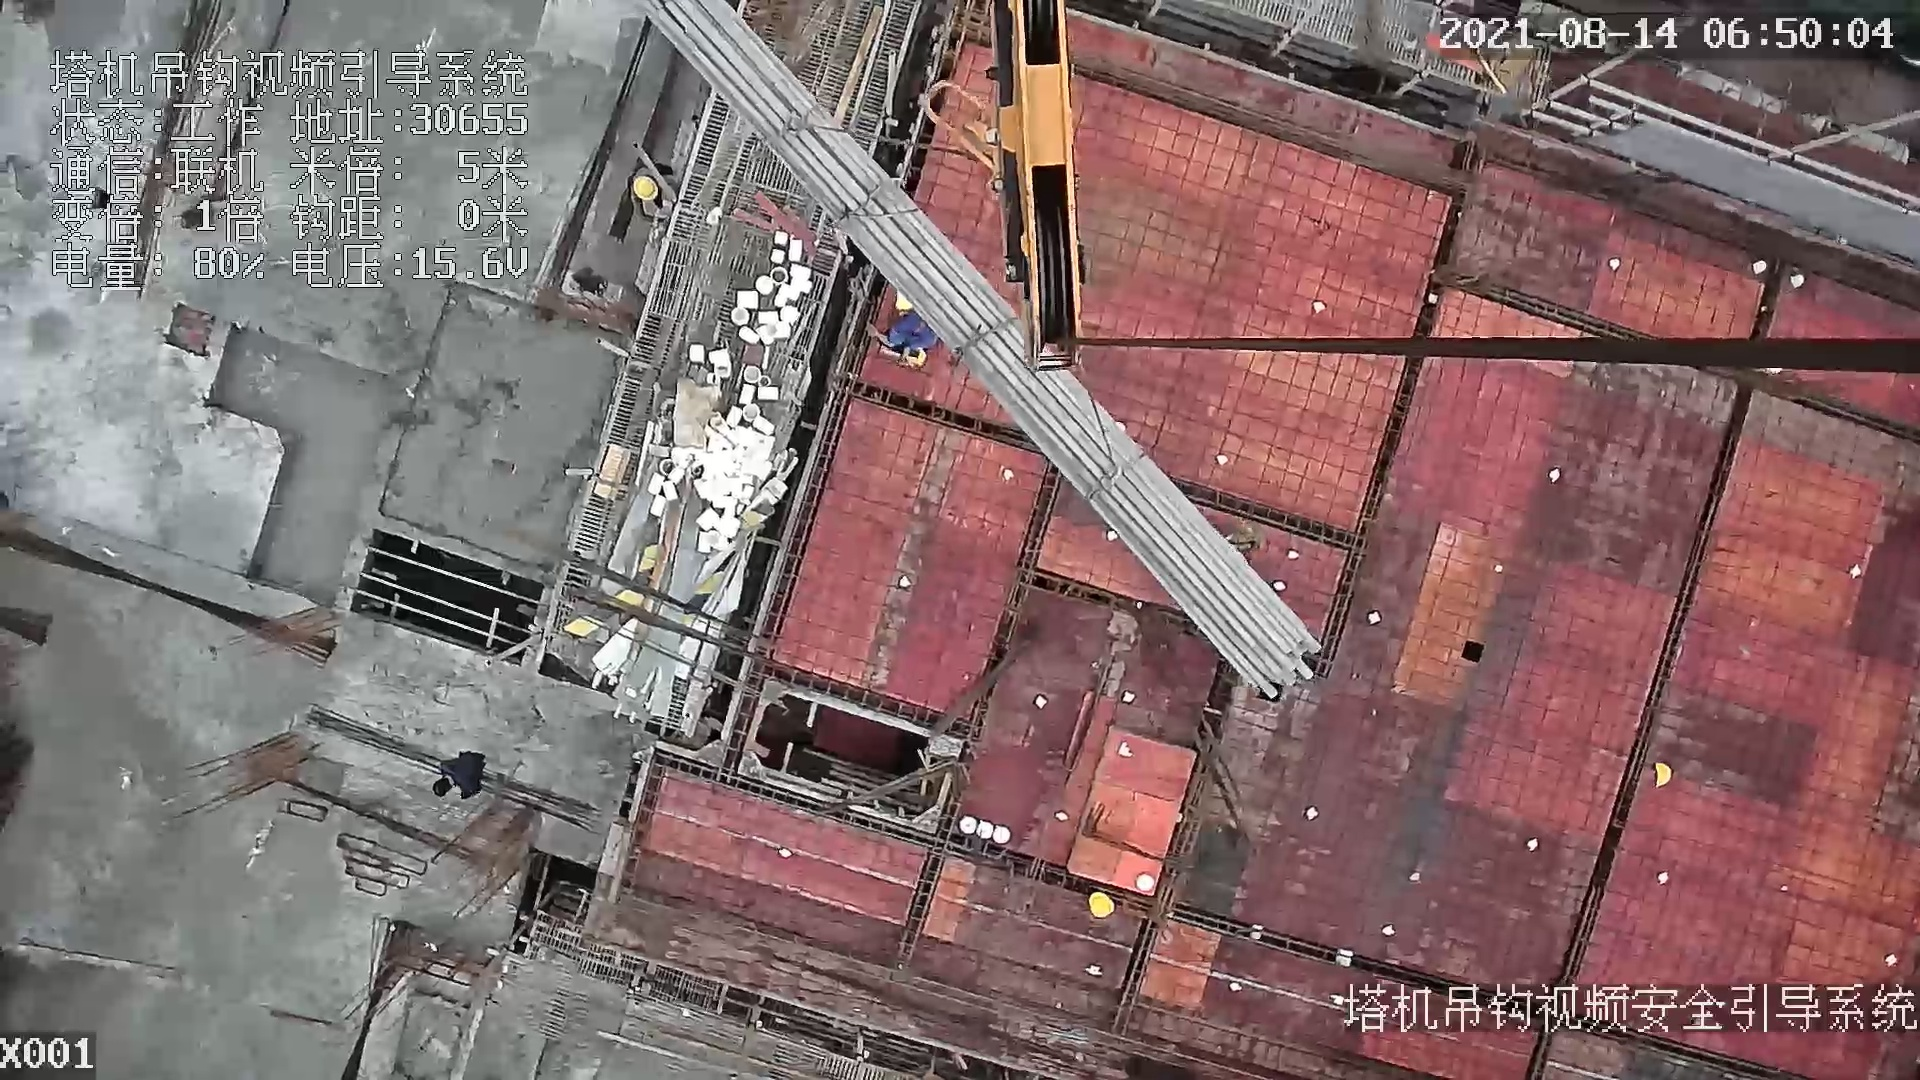helmet: (1646, 756, 1687, 794), (631, 171, 666, 210), (1090, 883, 1120, 917)
hook: (924, 1, 1091, 367)
person: (877, 289, 958, 378), (435, 753, 485, 808), (632, 166, 678, 220)
